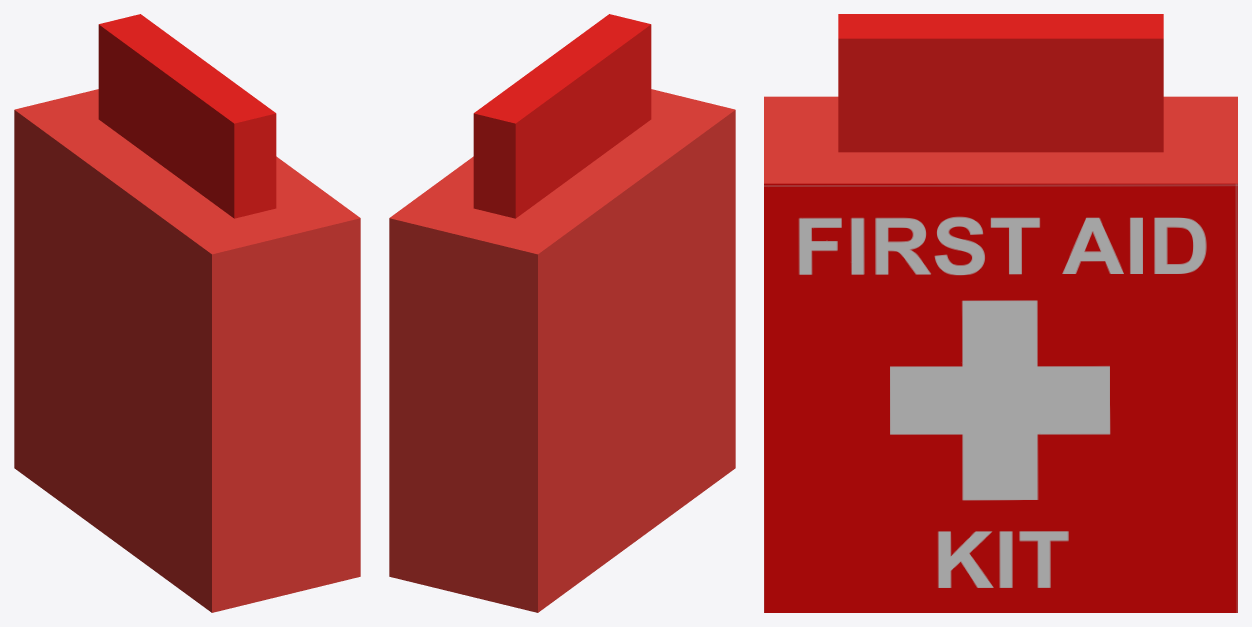
File: medkit2.glb
The picture shows the model from 3 angles, left to right: view 1: azimuth 30°, elevation 25°; view 2: azimuth 150°, elevation 25°; view 3: azimuth 270°, elevation 25°; orthographic projection. The views are drawn at different scales.
Visible parts, largest first — view 1: Cube, handle; view 2: Cube, handle; view 3: Cube, handle.
Boxes of the visible parts, x1,y1,x2,y2 form: Cube: (14,89,360,612); handle: (98,14,276,218); Cube: (389,89,735,612); handle: (473,14,651,218); Cube: (764,96,1237,612); handle: (838,14,1163,152).
Size of the model in its own units: 0.8681 by 2.53 by 2.
Materials: 3 (1 with a texture image).
